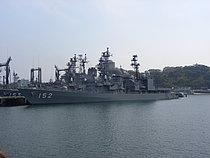MIL_Ship: (16, 46, 175, 104)
